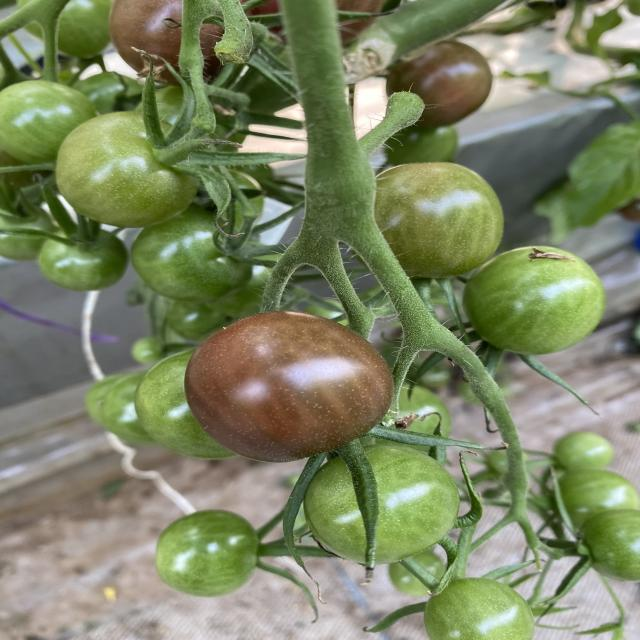c-half-riped: (109, 1, 252, 88), (386, 41, 492, 128)
c-riped: (182, 311, 394, 463)
c-unriped: (303, 444, 460, 565), (348, 162, 504, 278), (55, 111, 203, 228), (461, 246, 606, 354), (130, 206, 254, 304), (135, 348, 239, 459), (154, 510, 260, 598), (0, 80, 99, 170), (422, 578, 536, 639), (359, 384, 453, 457), (37, 225, 128, 291), (18, 0, 115, 59), (552, 469, 637, 530), (576, 508, 640, 582), (104, 368, 154, 444), (383, 124, 459, 167), (1, 202, 54, 262), (74, 72, 147, 114), (388, 549, 450, 595), (553, 431, 612, 473)
